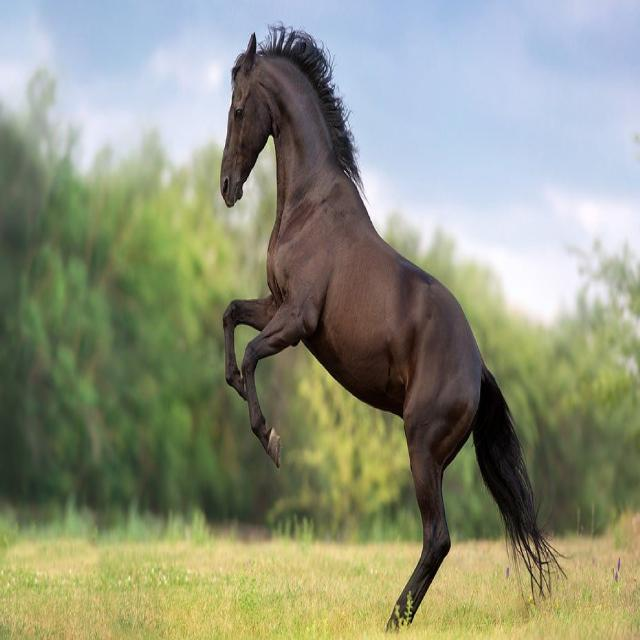Horse: (215, 36, 561, 640)
